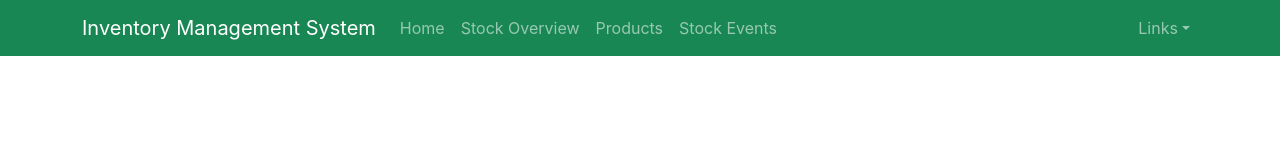
it: Navibar › renders github link
Click the button "Links".
click(1164, 28)  # box [1130, 8, 1198, 48]
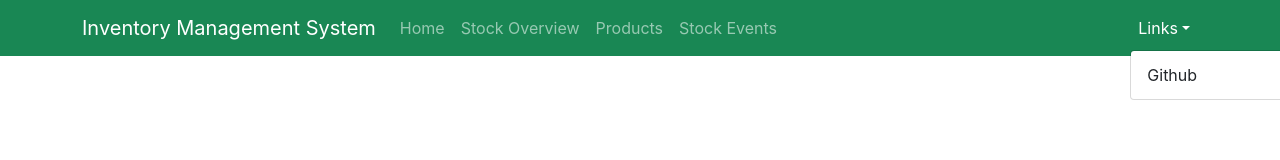
Result: the link "Github" is shown at [1147, 65, 1197, 85]
